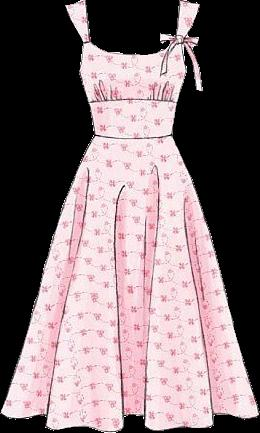Bodice: (65, 0, 202, 139)
Hemline: (0, 409, 259, 432)
Neckline: (83, 0, 183, 56)
Skirt: (1, 135, 258, 431)
Waistline: (87, 96, 178, 105), (92, 130, 173, 140)
